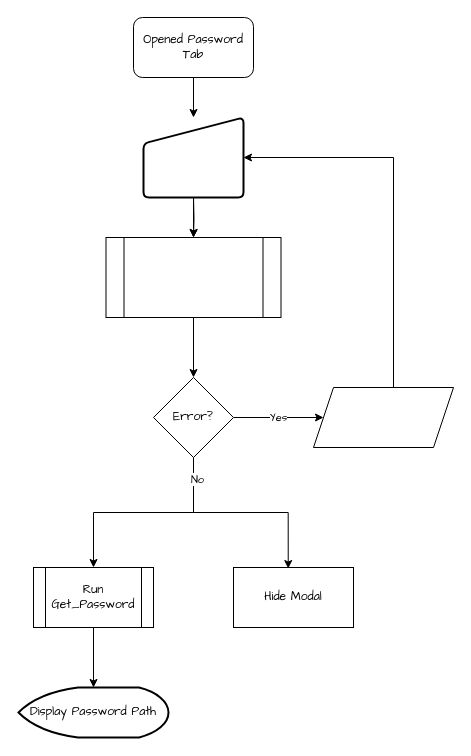
The diagram is 471 pixels wide and 756 high, and some of its shapes have lost their labels. The centre of each missing label's shape, as x and y in pixels:
Initialise Password_Manager: the point at 193,277
Modal with "Wrong Pasword: the point at 383,417
Modal with Password Input: the point at 193,157
